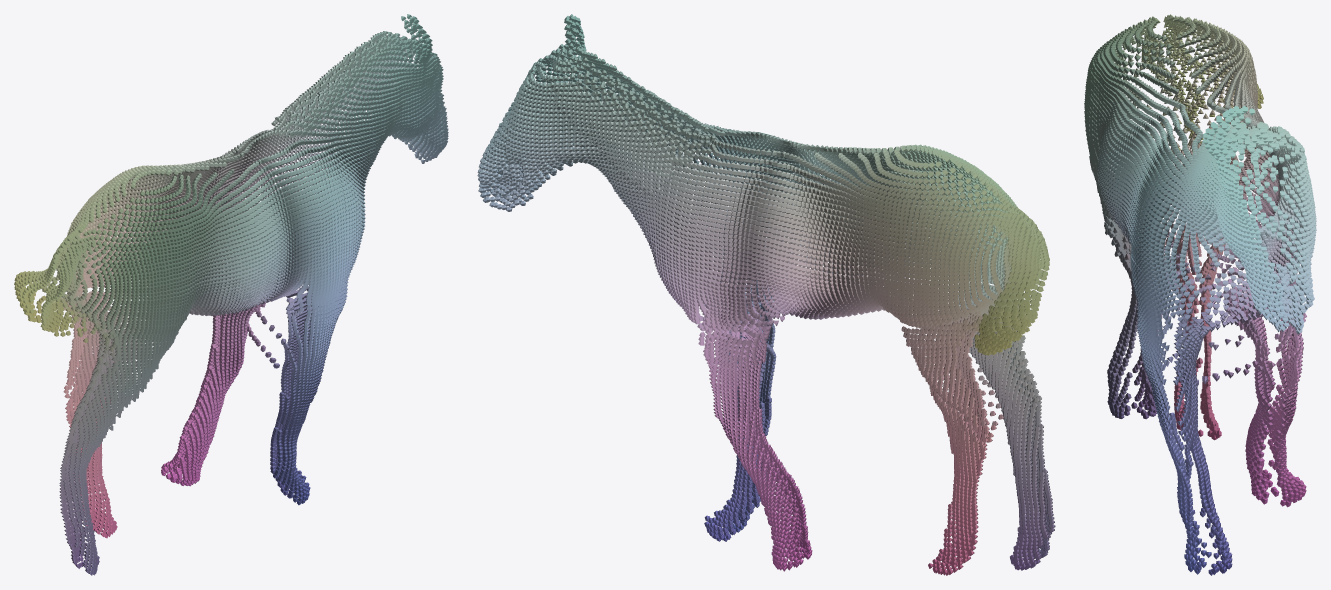
Rendered from 2008_005304_2_pcan.glb.
The picture shows the model from 3 angles, left to right: view 1: azimuth 30°, elevation 25°; view 2: azimuth 150°, elevation 25°; view 3: azimuth 270°, elevation 25°; orthographic projection. The views are drawn at different scales.
Parts seen in each view (by area): view 1: target; view 2: target; view 3: target.
Part boxes in pixels (box(x1,y1,x2,y2)): target: box(14, 14, 448, 575); target: box(477, 14, 1055, 575); target: box(1084, 14, 1316, 575).
Size of the model in its own units: 2.54 by 2.37 by 0.9195.
